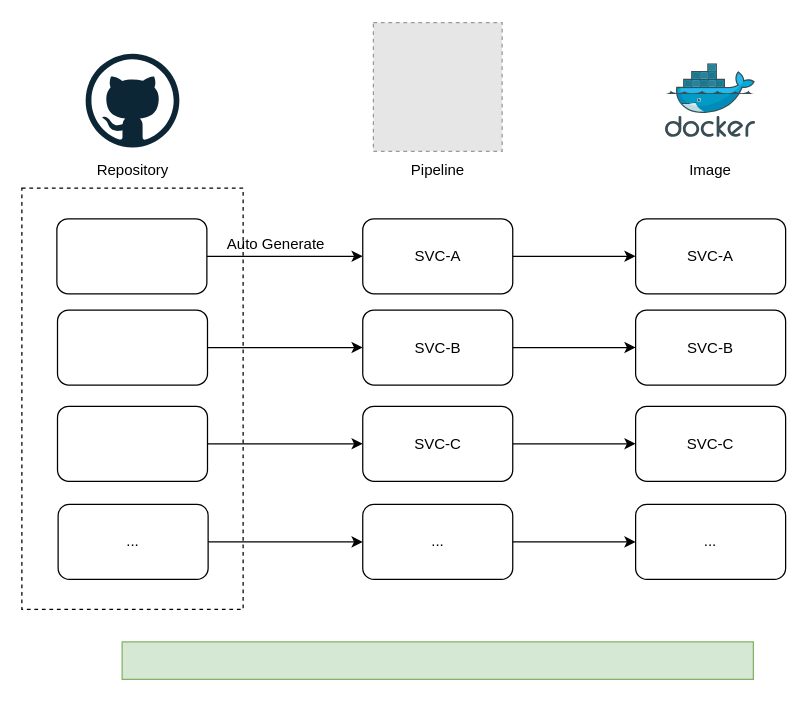
Some shapes in this 808 by 701 pixel diagram are drawn without their labels. Grey dashed boxes stand in for pictures. Here are the shapes that lost their labels. From the top down, the centre of each, then its label:
pixel 131 256: ./svc-a
pixel 132 347: ./svc-b
pixel 132 443: ./svc-c
pixel 437 660: A better solution is to auto generate pipeline based on svc dir by DSL
